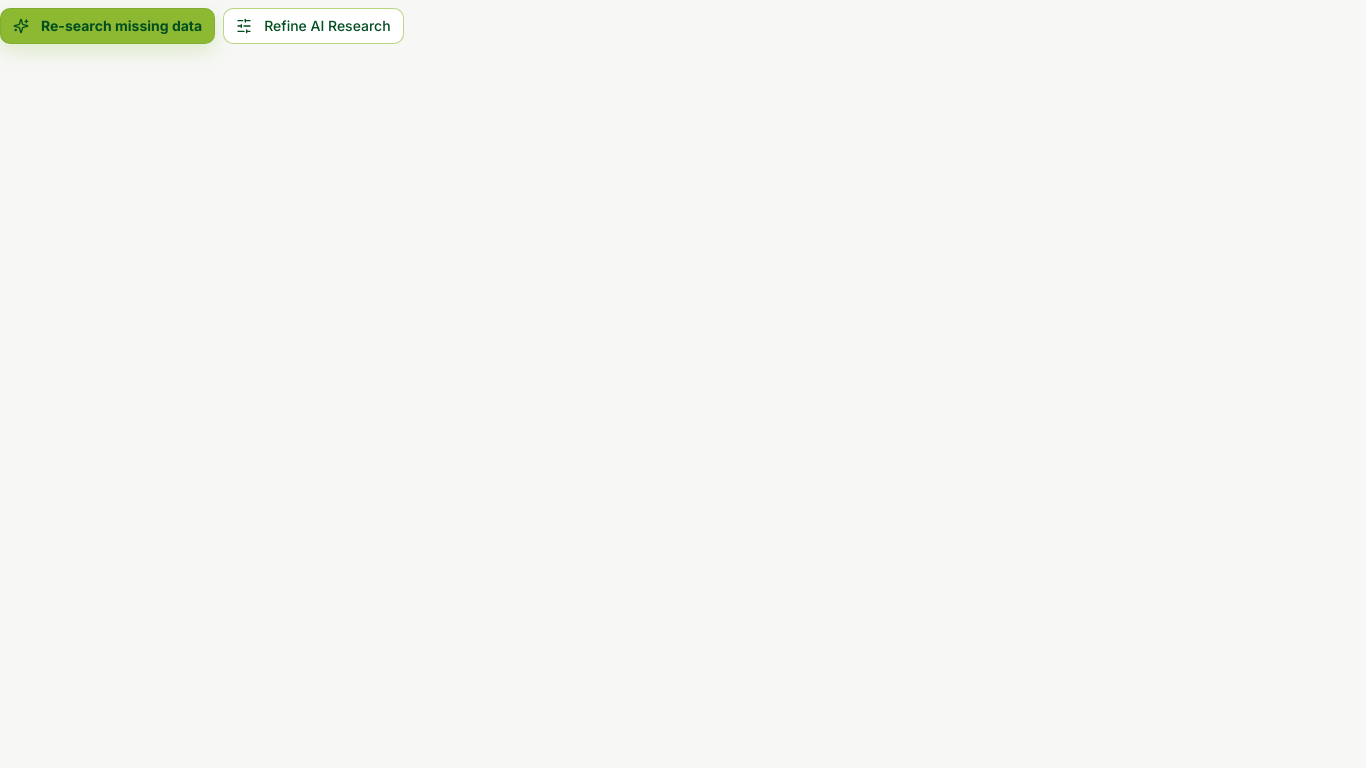
Test: V3 re-search lifecycle › genuine failed attempt shows diagnostic code; network error shows safe text; retry clears it
Click the button "Re-search missing data" at (108, 26), box x1=0 y1=8 x2=215 y2=44
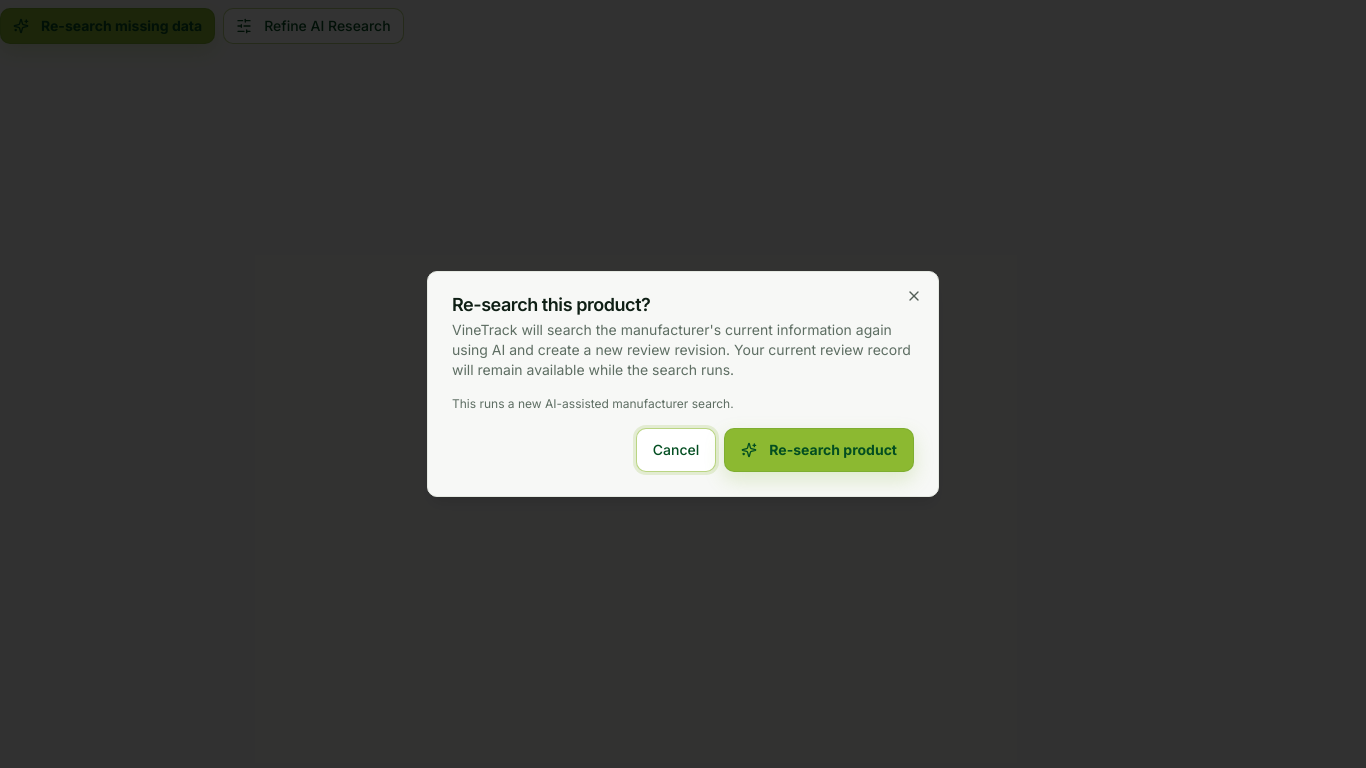
Click the button "Re-search product" at (819, 450), box x1=724 y1=428 x2=914 y2=472
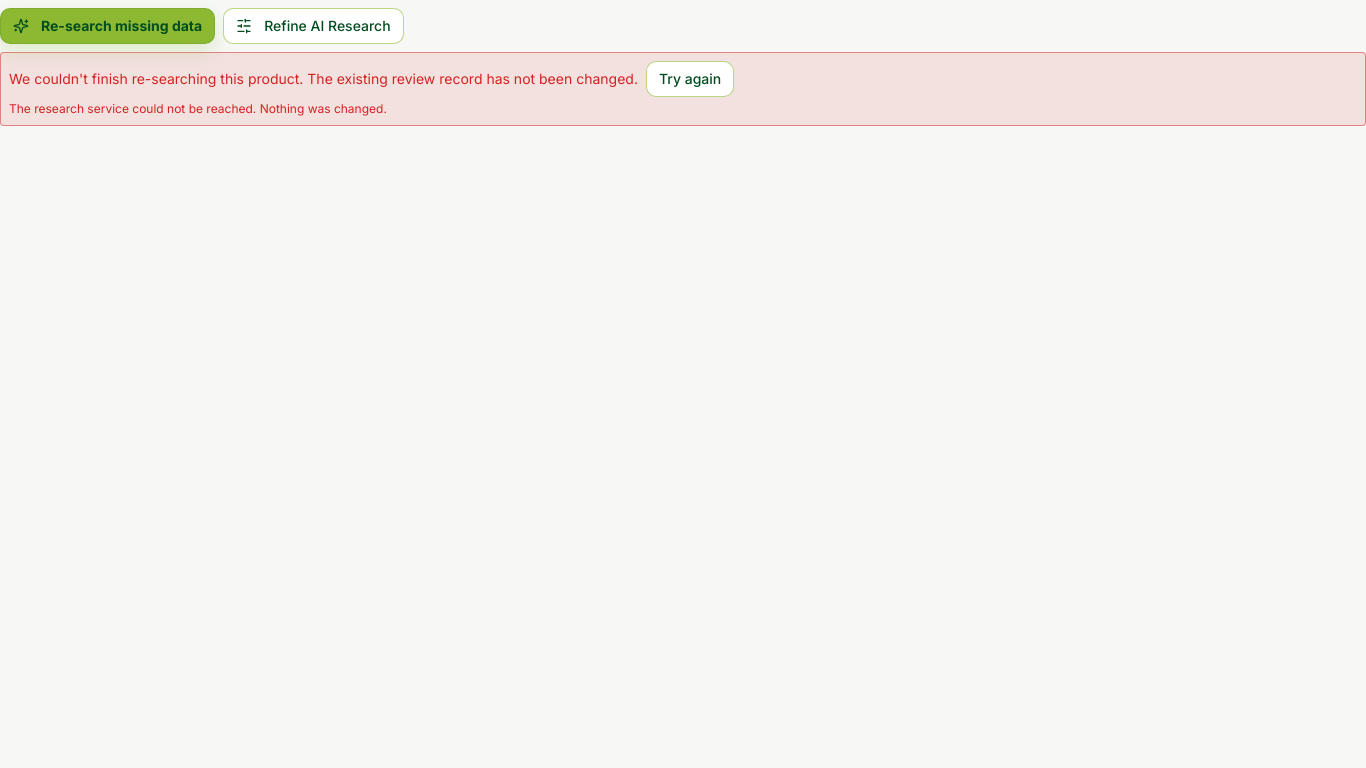
Now the text "We couldn't finish re-searching this product. The existing review record has not been changed." is shown, box x1=9 y1=70 x2=638 y2=87
Now the text with test id "v3-research-failed-detail" shows "could not be reached", box x1=9 y1=101 x2=387 y2=116
Click the button "Try again" at (690, 79), box x1=646 y1=61 x2=734 y2=97
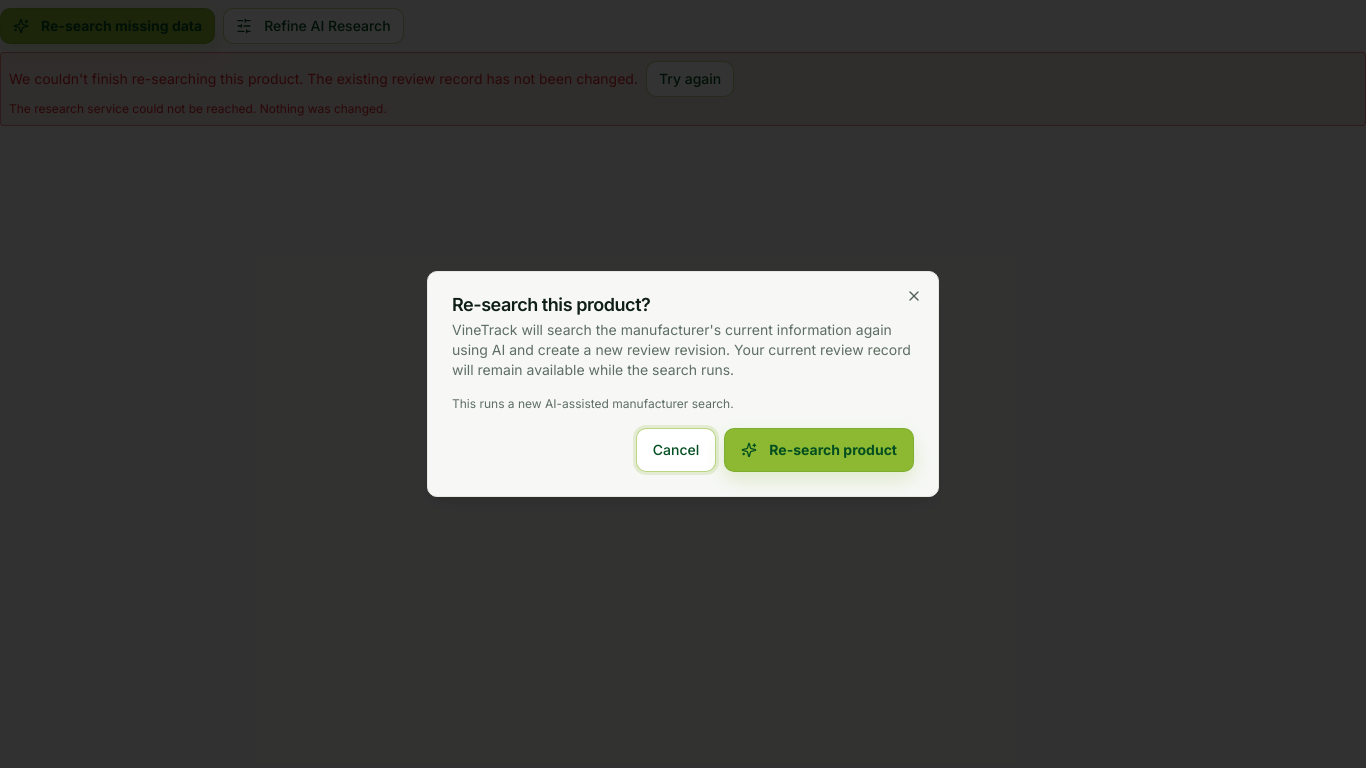
Click the button "Re-search product" at (819, 450), box x1=724 y1=428 x2=914 y2=472
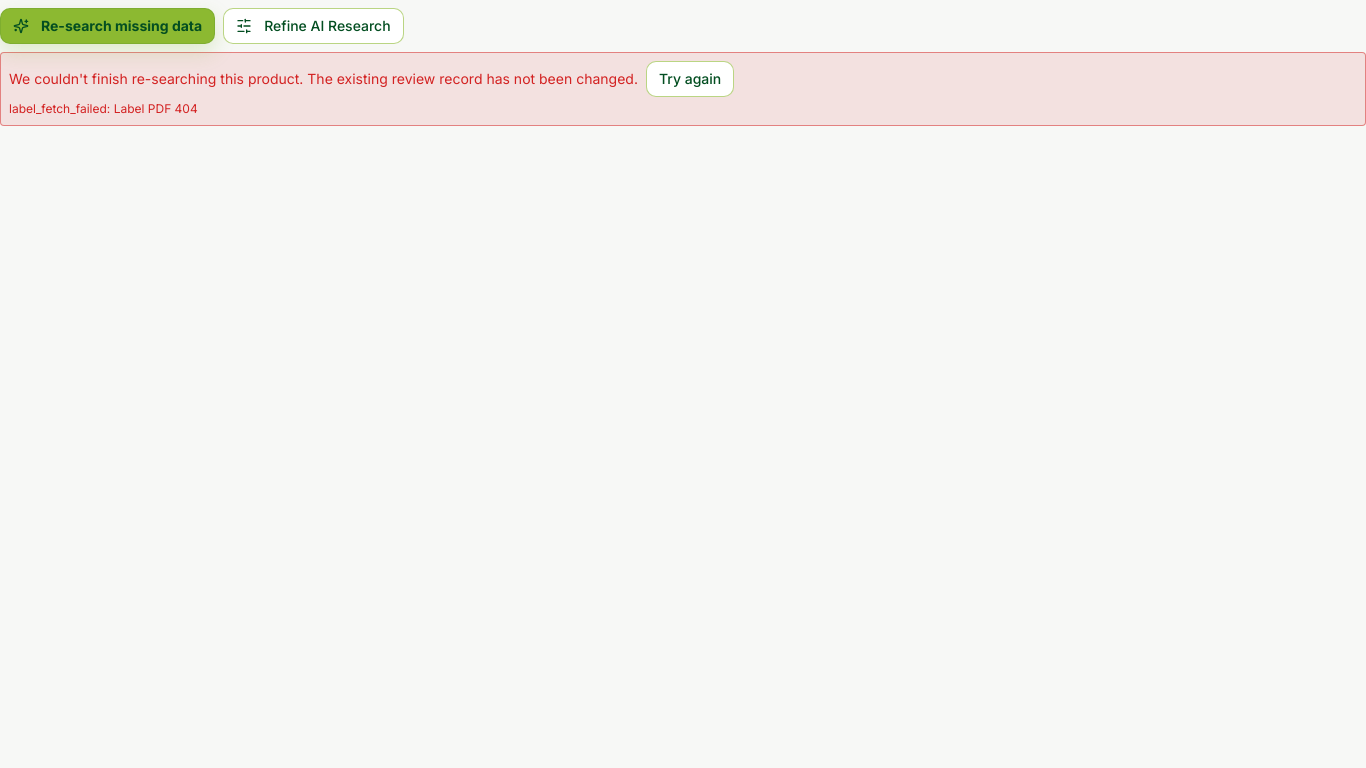
Now the text with test id "v3-research-failed-detail" reads "label_fetch_failed: Label PDF 404", box x1=9 y1=101 x2=198 y2=116
